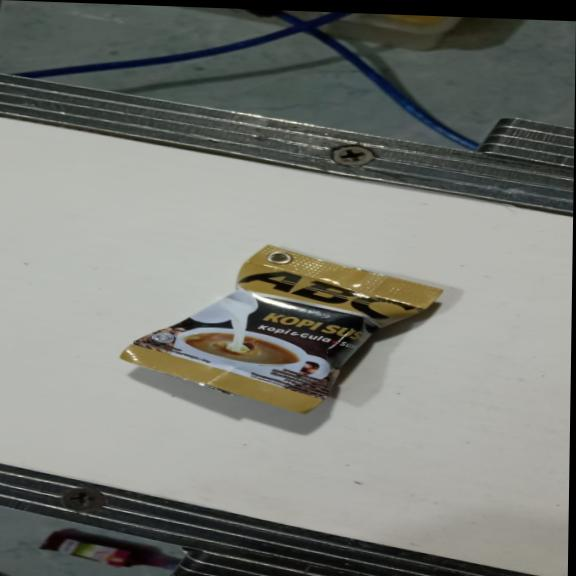Plastik: (117, 240, 447, 421)
